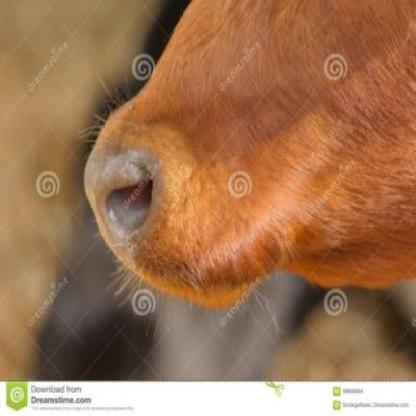lower: (322, 260, 336, 270)
mouth: (86, 116, 281, 311)
upper: (109, 158, 150, 178)
